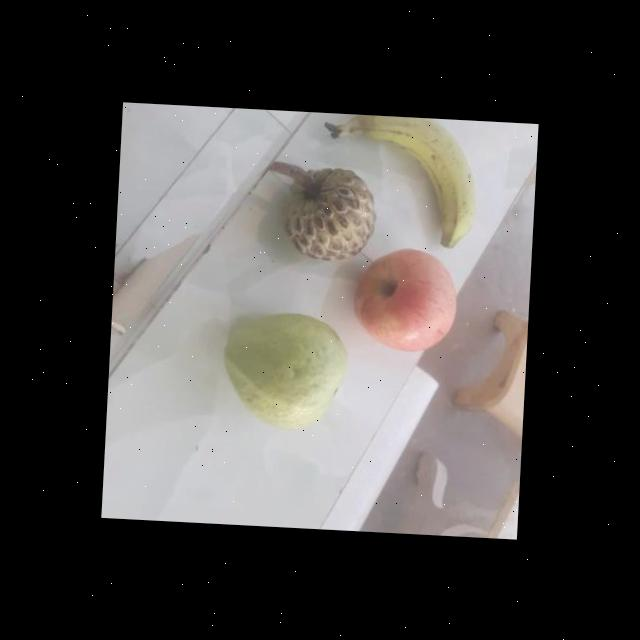Sakya fruit: (275, 162, 381, 268)
apple: (350, 242, 460, 360)
banana: (329, 114, 482, 258)
guava: (220, 310, 346, 438)
